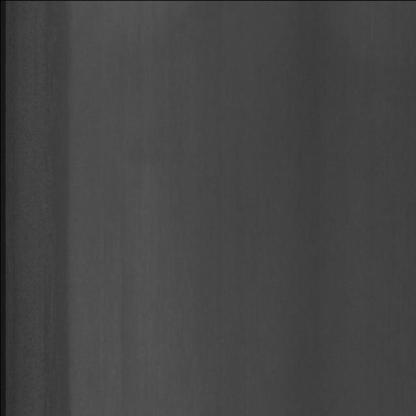silk_spot: (22, 85, 68, 356)
